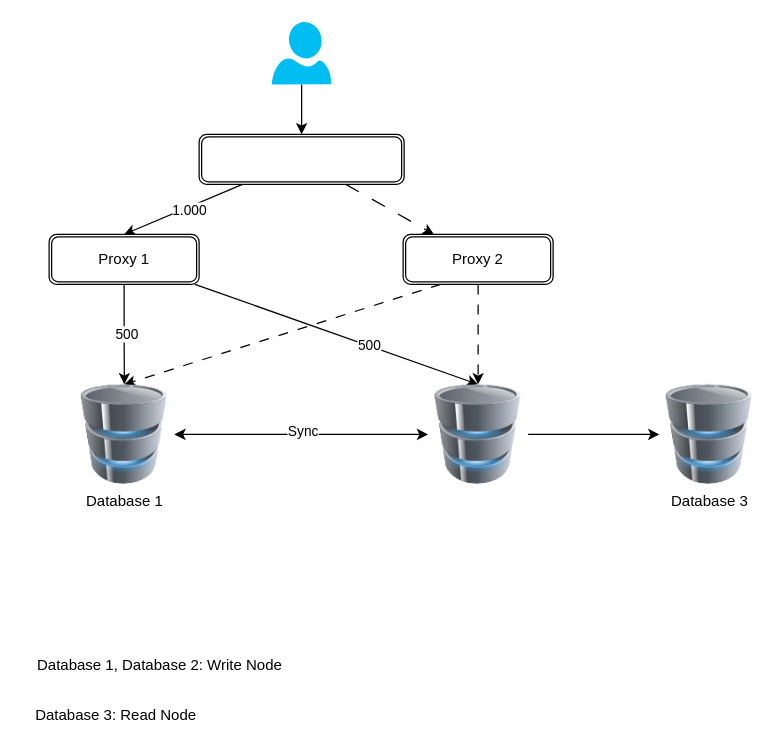
This 780x755 diagram has some shape labels left out. The centre of each missing label's shape, as x and y in pixels:
"Database 2" belongs at [478,434].
"VIP" belongs at [301,158].
